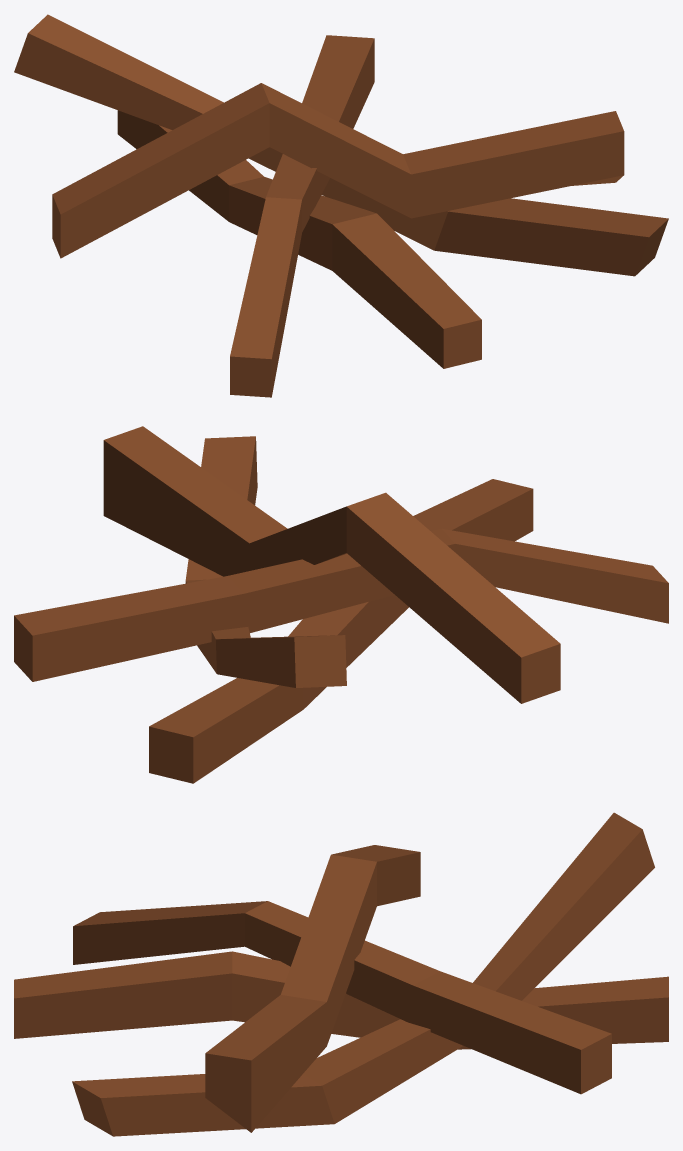
File: wood_twigs.fbx
The picture shows the model from 3 angles, top to bottom: view 1: azimuth 30°, elevation 25°; view 2: azimuth 150°, elevation 25°; view 3: azimuth 270°, elevation 25°; orthographic projection. The views are drawn at different scales.
Visible parts, largest first — view 1: Cube_4, Cube_2, Cube, Cube_1; view 2: Cube_4, Cube_1, Cube, Cube_2; view 3: Cube_2, Cube_1, Cube, Cube_4.
Part boxes in pixels (x1,y1,x2,y2): Cube_4: (52, 83, 624, 258); Cube_2: (14, 14, 668, 276); Cube: (117, 110, 481, 368); Cube_1: (230, 35, 374, 397); Cube_4: (103, 426, 560, 703); Cube_1: (14, 528, 668, 681); Cube: (149, 479, 533, 783); Cube_2: (185, 436, 346, 687); Cube_2: (72, 812, 654, 1136); Cube_1: (73, 901, 611, 1094); Cube: (14, 951, 668, 1049); Cube_4: (205, 845, 420, 1132).
Size of the model in its own units: 35.22 by 11.97 by 40.
